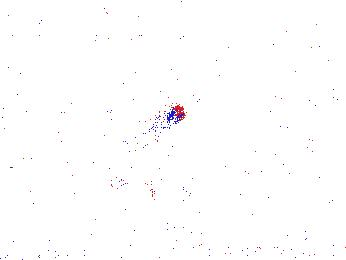flame jellyfish: (116, 106, 185, 158), (153, 171, 214, 227), (110, 152, 169, 207)
